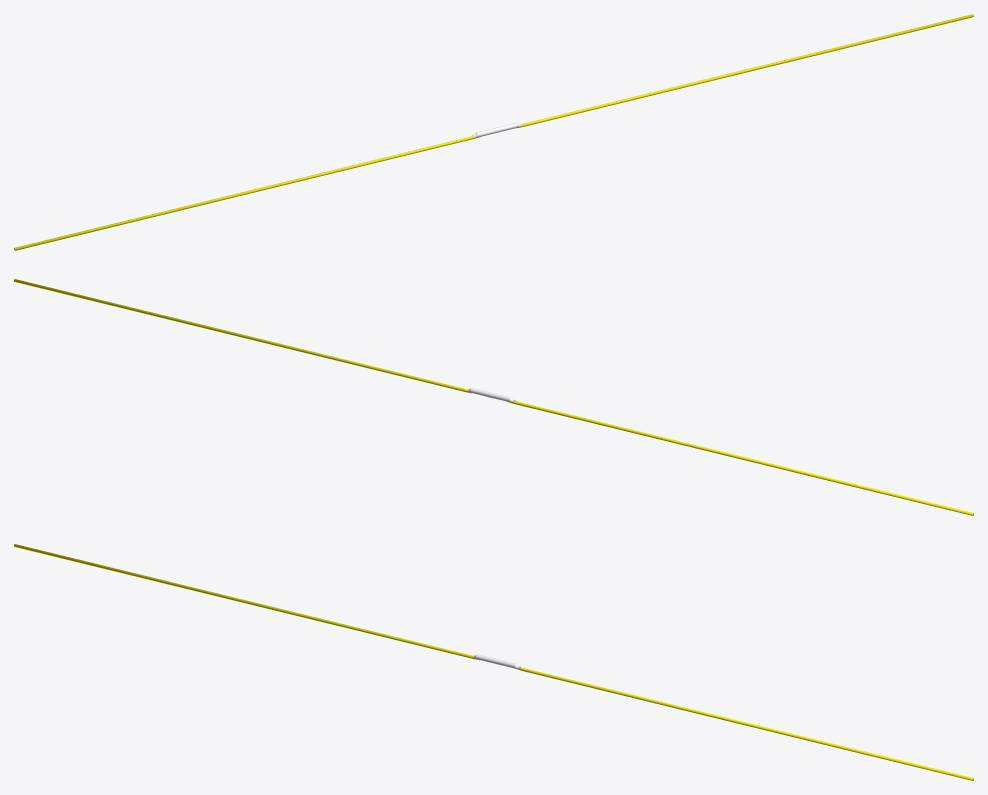
The model's file is tersambung lurus.fbx.
3 views of the same model, one above another, from view 1: azimuth 30°, elevation 25°; view 2: azimuth 150°, elevation 25°; view 3: azimuth 330°, elevation 25° (orthographic).
Visible parts, largest first — view 1: kabel tersambung dengan sleeve; view 2: kabel tersambung dengan sleeve; view 3: kabel tersambung dengan sleeve.
Part boxes in pixels (<box>): kabel tersambung dengan sleeve: <box>14,14,973,250</box>; kabel tersambung dengan sleeve: <box>14,279,973,515</box>; kabel tersambung dengan sleeve: <box>14,544,973,780</box>.
Bounding box in the file's own units: 53.39 × 0.2808 × 0.246.
2 materials, 2 textured.
